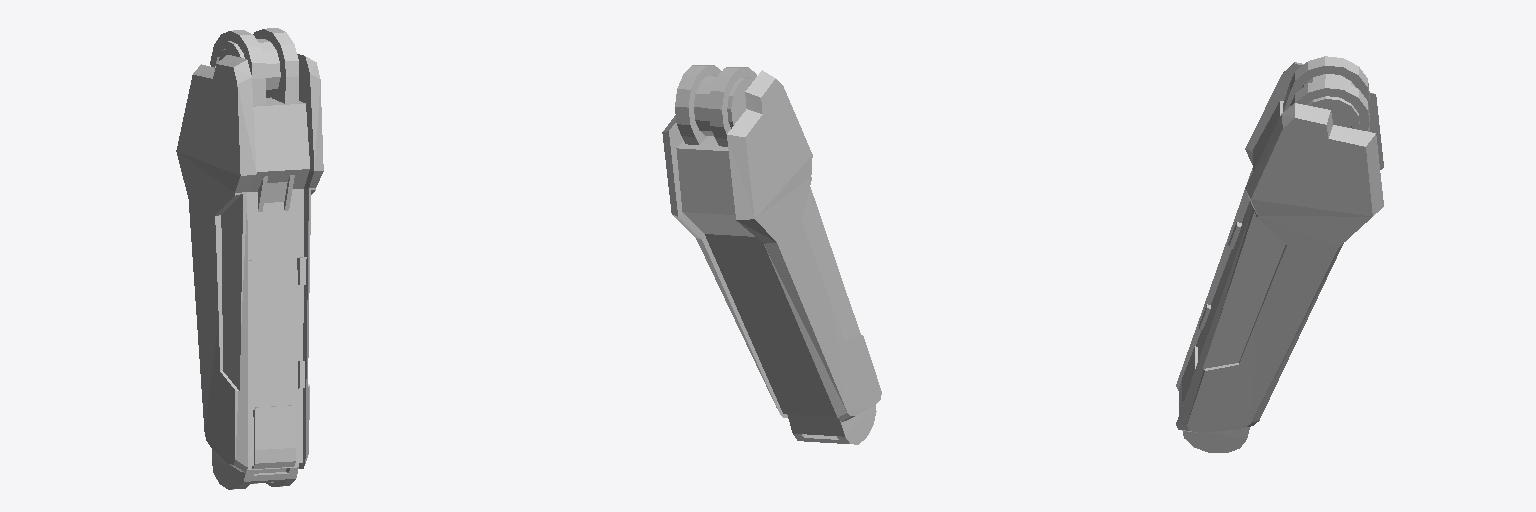
3 views of the same model, side by side, from view 1: azimuth 30°, elevation 25°; view 2: azimuth 150°, elevation 25°; view 3: azimuth 270°, elevation 25° (orthographic).
Parts seen in each view (by area): view 1: FA2 hands polySurface373, FA2 hands polySurface375, FA2 hands polySurface374, polySurface307 FA2 hands, FA2 hands polySurface316, FA2 hands polySurface369, FA2 hands polySurface370, FA2 hands polySurface367; view 2: FA2 hands polySurface373, FA2 hands polySurface375, FA2 hands polySurface374, FA2 hands polySurface316, FA2 hands polySurface369, FA2 hands polySurface370, FA2 hands polySurface367; view 3: FA2 hands polySurface374, FA2 hands polySurface373, FA2 hands polySurface370, FA2 hands polySurface375, FA2 hands polySurface369, FA2 hands polySurface316, FA2 hands polySurface367.
Part boxes in pixels (left/top/right/bottom): FA2 hands polySurface373: left=176, top=55, right=256, bottom=472; FA2 hands polySurface375: left=247, top=98, right=309, bottom=465; FA2 hands polySurface374: left=297, top=54, right=323, bottom=468; polySurface307 FA2 hands: left=252, top=405, right=296, bottom=468; FA2 hands polySurface316: left=212, top=449, right=298, bottom=489; FA2 hands polySurface369: left=253, top=28, right=298, bottom=103; FA2 hands polySurface370: left=210, top=30, right=265, bottom=105; FA2 hands polySurface367: left=212, top=39, right=280, bottom=97; FA2 hands polySurface373: left=727, top=70, right=881, bottom=421; FA2 hands polySurface375: left=676, top=136, right=836, bottom=416; FA2 hands polySurface374: left=662, top=115, right=787, bottom=417; FA2 hands polySurface316: left=787, top=405, right=876, bottom=444; FA2 hands polySurface369: left=675, top=65, right=721, bottom=144; FA2 hands polySurface370: left=708, top=67, right=756, bottom=146; FA2 hands polySurface367: left=694, top=75, right=753, bottom=135; FA2 hands polySurface374: left=1176, top=103, right=1383, bottom=432; FA2 hands polySurface373: left=1176, top=62, right=1383, bottom=390; FA2 hands polySurface370: left=1283, top=56, right=1369, bottom=111; FA2 hands polySurface375: left=1196, top=101, right=1369, bottom=360; FA2 hands polySurface369: left=1290, top=79, right=1369, bottom=130; FA2 hands polySurface316: left=1183, top=427, right=1249, bottom=452; FA2 hands polySurface367: left=1302, top=74, right=1359, bottom=129.
Bounding box in the file's own units: 13.62 × 38.75 × 18.05.